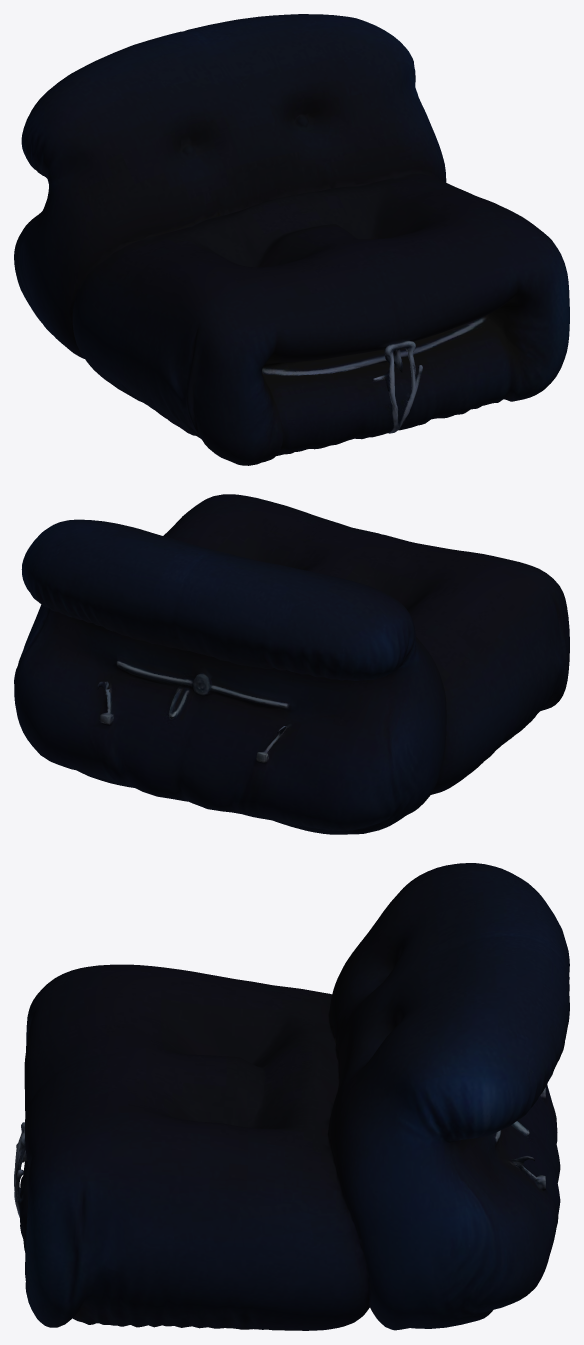
The model's file is 01_SORIANA.glb.
The picture shows the model from 3 angles, top to bottom: view 1: azimuth 30°, elevation 25°; view 2: azimuth 150°, elevation 25°; view 3: azimuth 270°, elevation 25°; orthographic projection. The views are drawn at different scales.
Visible parts, largest first — view 1: 1_sofa.001; view 2: 1_sofa.001; view 3: 1_sofa.001.
Part boxes in pixels (x1=…): 1_sofa.001: x1=14, y1=14, x2=569, y2=465; 1_sofa.001: x1=14, y1=494, x2=569, y2=834; 1_sofa.001: x1=14, y1=863, x2=569, y2=1330.
Bounding box in the file's own units: 0.9913 × 0.6398 × 1.
Materials: 1 (1 with a texture image).
